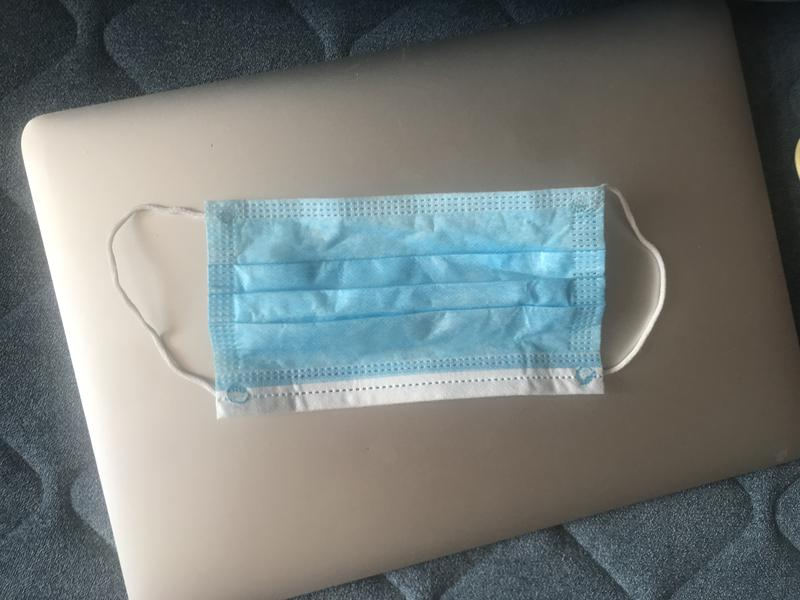medical_mask: (106, 185, 667, 416)
